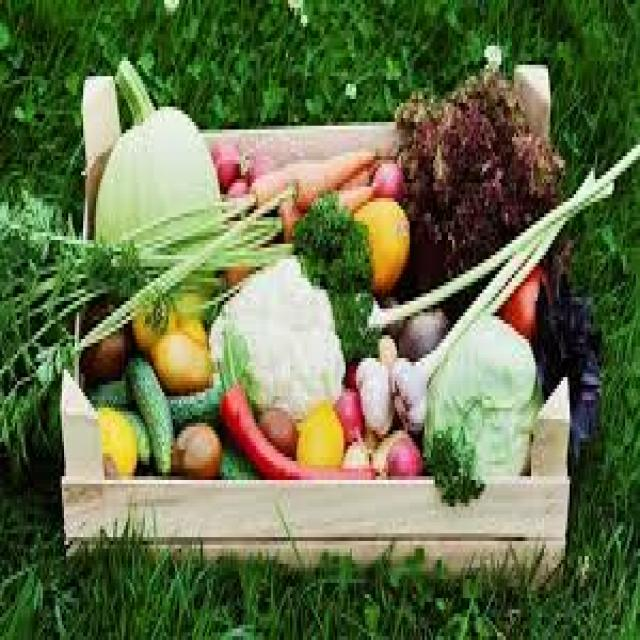organic waste: (365, 134, 638, 332), (390, 160, 593, 415), (395, 65, 559, 270), (90, 53, 220, 240), (205, 248, 343, 412), (213, 354, 382, 476), (420, 305, 540, 476), (126, 190, 279, 305), (534, 259, 600, 453), (294, 183, 367, 358), (0, 301, 58, 461), (0, 194, 55, 350), (250, 141, 380, 206), (58, 221, 147, 305), (85, 373, 222, 423), (124, 354, 175, 472), (352, 194, 410, 290), (277, 179, 369, 236), (425, 423, 482, 503), (149, 324, 209, 392), (491, 263, 542, 335), (294, 396, 346, 461), (356, 358, 395, 434), (168, 419, 220, 476), (369, 423, 420, 480), (96, 400, 134, 476), (388, 354, 425, 430), (292, 171, 369, 206), (395, 305, 446, 354), (166, 286, 205, 346), (130, 294, 169, 351), (211, 137, 254, 187), (122, 404, 154, 468), (258, 404, 295, 453), (59, 320, 92, 370), (332, 385, 362, 438), (218, 442, 262, 476), (369, 156, 403, 198), (369, 430, 395, 472), (344, 431, 371, 468), (226, 172, 248, 194), (344, 362, 356, 392)
